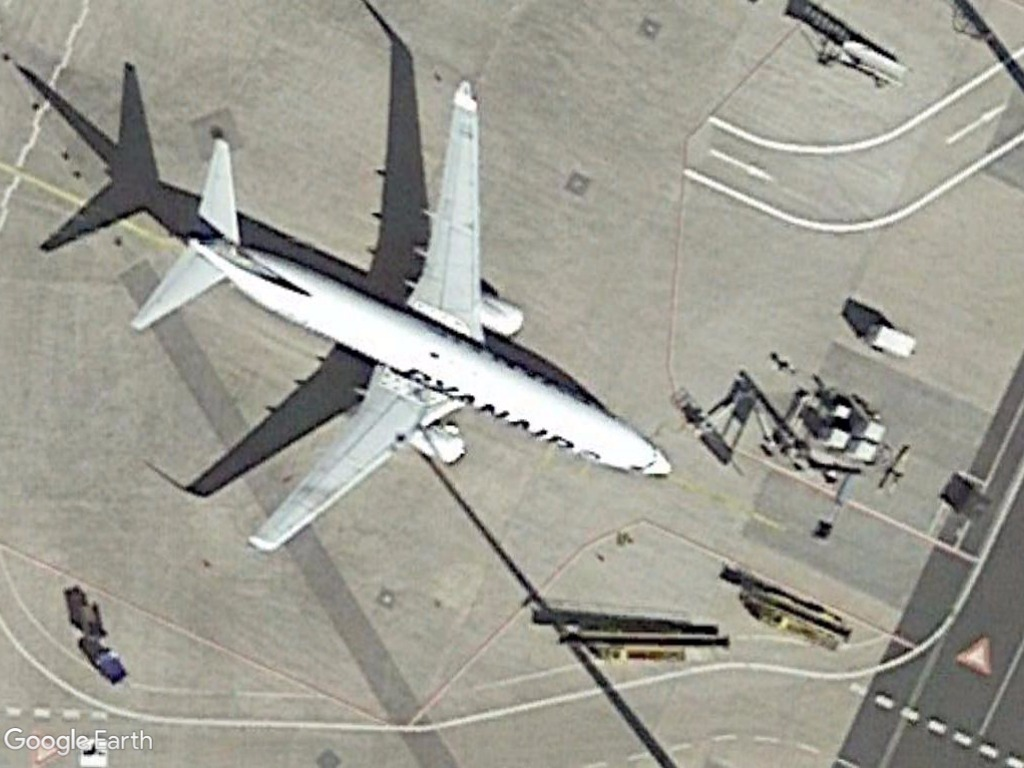airliner: (115, 66, 687, 565)
